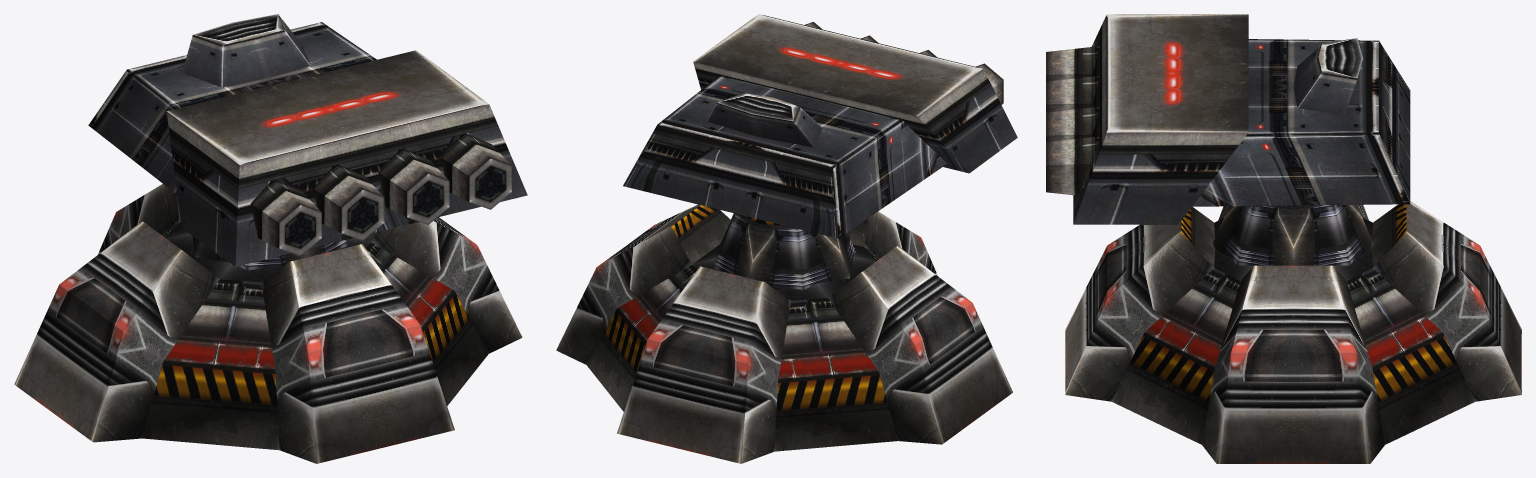
The model's file is r-launcher-02.DAE.
3 views of the same model, side by side, from view 1: azimuth 30°, elevation 25°; view 2: azimuth 150°, elevation 25°; view 3: azimuth 270°, elevation 25° (orthographic). The views are drawn at different scales.
Visible parts, largest first — view 1: r-launcher-02; view 2: r-launcher-02; view 3: r-launcher-02.
Part boxes in pixels (<box>): r-launcher-02: <box>14,14,527,463</box>; r-launcher-02: <box>556,14,1017,463</box>; r-launcher-02: <box>1046,14,1521,463</box>.
Bounding box in the file's own units: 4.48 × 4.42 × 3.13.
